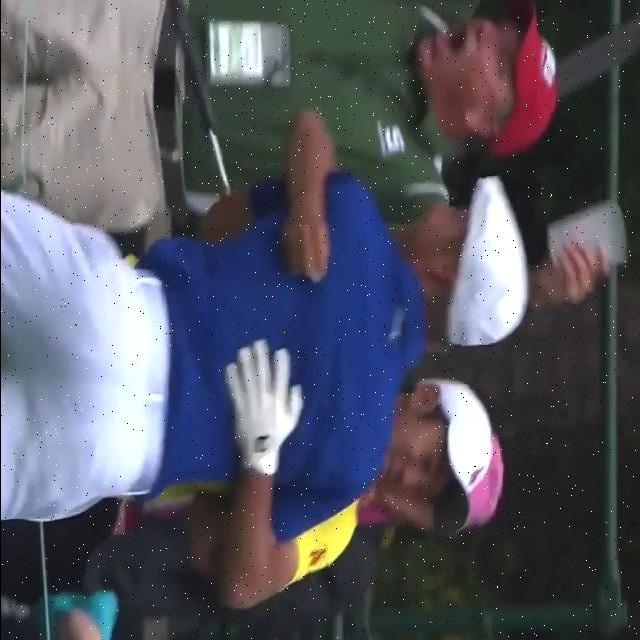golf club-handle: (156, 0, 236, 196)
